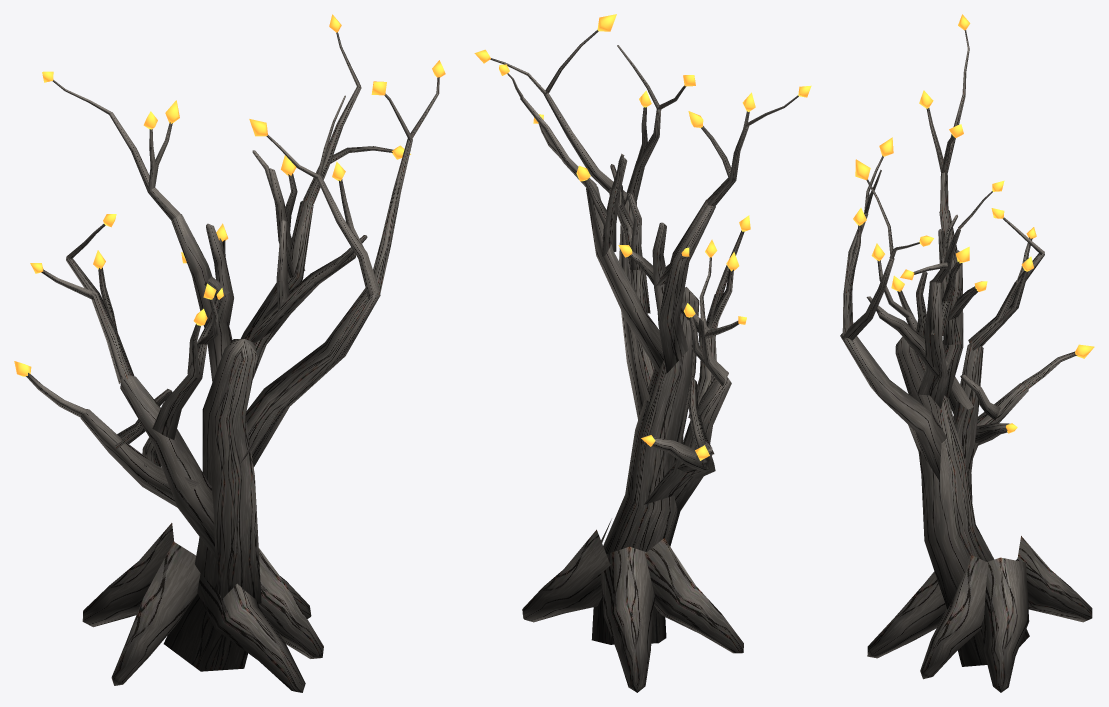
The model's file is tree_dead_a_lod1.glb.
3 views of the same model, side by side, from view 1: azimuth 30°, elevation 25°; view 2: azimuth 150°, elevation 25°; view 3: azimuth 270°, elevation 25° (orthographic). The views are drawn at different scales.
Visible parts, largest first — view 1: tree_dead_a_lod1; view 2: tree_dead_a_lod1; view 3: tree_dead_a_lod1.
Boxes of the visible parts, box(x1,y1,x2,y2) form: tree_dead_a_lod1: box(14, 14, 445, 692); tree_dead_a_lod1: box(474, 14, 811, 692); tree_dead_a_lod1: box(840, 14, 1094, 692).
Size of the model in its own units: 2.36 by 3.82 by 1.56.
2 materials, 1 textured.
